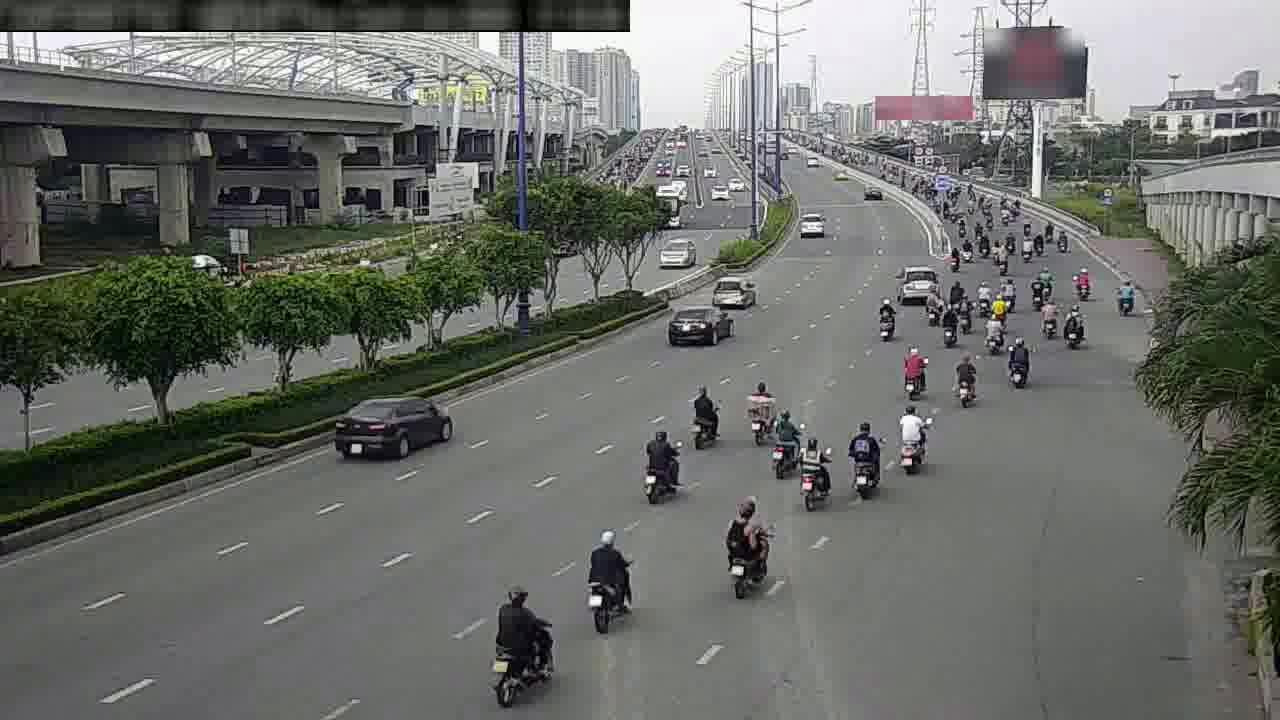container: (340, 388, 450, 459), (663, 298, 729, 349), (705, 269, 759, 313), (894, 267, 940, 304), (794, 206, 832, 241)
motorbike: (485, 585, 559, 701), (715, 497, 777, 596), (577, 526, 638, 624), (631, 425, 684, 505), (789, 436, 836, 511), (839, 426, 885, 500), (681, 381, 725, 449), (891, 403, 933, 470), (763, 410, 802, 476), (744, 381, 776, 447), (894, 346, 930, 400), (951, 355, 979, 410), (1007, 340, 1035, 392), (1108, 276, 1141, 318), (1062, 302, 1090, 345), (1068, 264, 1098, 302), (874, 299, 900, 342), (1022, 272, 1049, 311), (937, 303, 962, 345), (993, 276, 1018, 314), (983, 310, 1005, 352), (1039, 296, 1061, 338), (943, 269, 968, 305), (971, 279, 996, 314), (923, 289, 944, 324), (959, 299, 974, 335)
